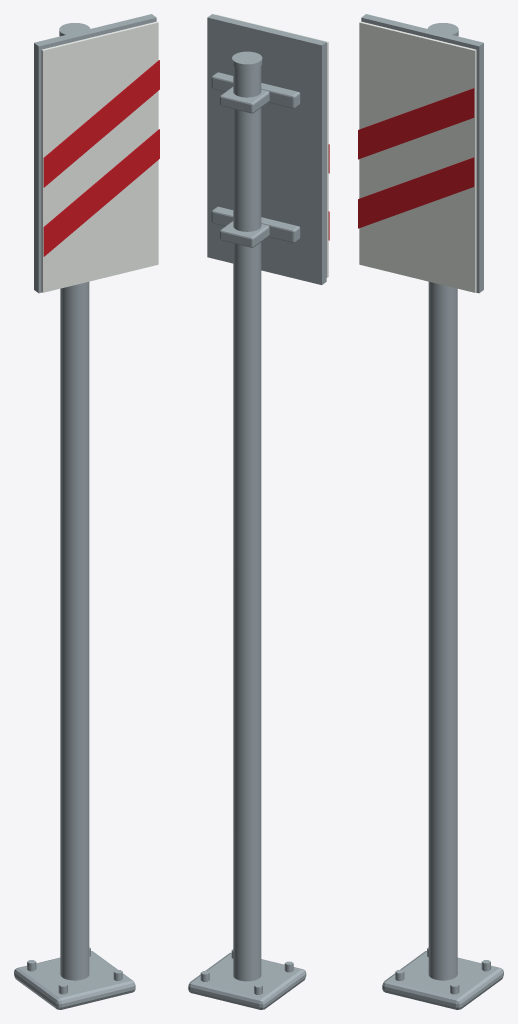
Rendered from DS_Sign_RailwayDist2_R.glb.
3 renders of one model, left to right at view 1: azimuth 30°, elevation 25°; view 2: azimuth 150°, elevation 25°; view 3: azimuth 330°, elevation 25°, orthographic. The views are drawn at different scales.
Visible parts, largest first — view 1: Face_Field.003, Post.005, Stripe_0.001, Stripe_1.001, BasePlate.005, Plate_Back.008; view 2: Post.005, Plate_Back.008, BasePlate.005, RearRail.012, RearRail.011, Face_Field.003, PostClamp.012, PostClamp.011, PostCap.005; view 3: Face_Field.003, Post.005, BasePlate.005, Stripe_0.001, Stripe_1.001, Plate_Back.008.
Boxes of the visible parts, bbox=[...] form: Face_Field.003: bbox=[41, 21, 158, 292]; Post.005: bbox=[60, 281, 89, 980]; Stripe_0.001: bbox=[43, 129, 159, 256]; Stripe_1.001: bbox=[43, 60, 159, 187]; BasePlate.005: bbox=[14, 951, 135, 1009]; Plate_Back.008: bbox=[34, 14, 156, 293]; Post.005: bbox=[233, 66, 261, 981]; Plate_Back.008: bbox=[207, 14, 326, 284]; BasePlate.005: bbox=[188, 952, 306, 1009]; RearRail.012: bbox=[211, 72, 300, 108]; RearRail.011: bbox=[211, 206, 300, 242]; Face_Field.003: bbox=[216, 14, 328, 277]; PostClamp.012: bbox=[220, 86, 269, 113]; PostClamp.011: bbox=[220, 221, 269, 247]; PostCap.005: bbox=[232, 51, 262, 69]; Face_Field.003: bbox=[359, 21, 476, 292]; Post.005: bbox=[428, 281, 457, 980]; BasePlate.005: bbox=[382, 951, 503, 1009]; Stripe_0.001: bbox=[358, 157, 474, 228]; Stripe_1.001: bbox=[358, 88, 474, 159]; Plate_Back.008: bbox=[361, 14, 483, 293].
Size of the model in its own units: 0.357 by 2.81 by 0.262.
